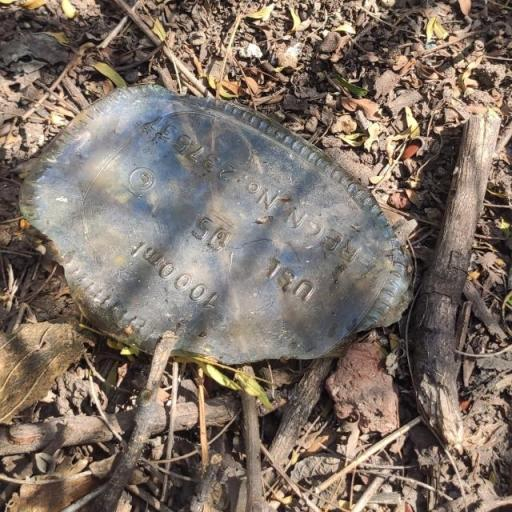glass: (3, 58, 417, 382)
